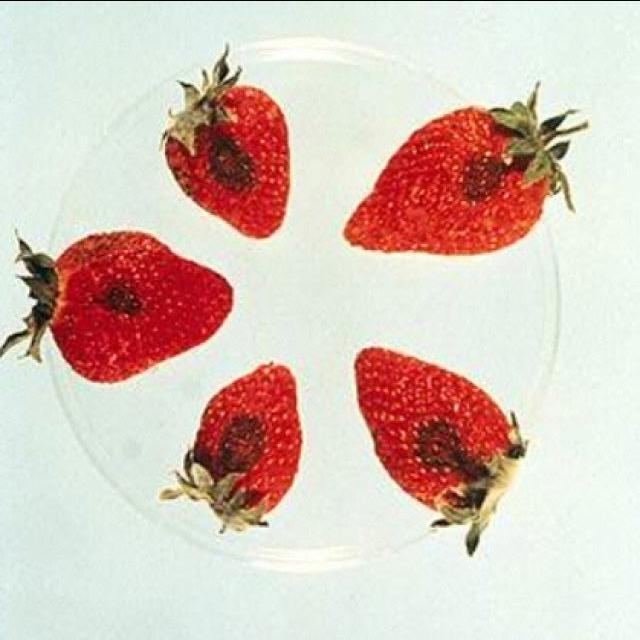Anthracnose Fruit Rot: (343, 90, 591, 256), (352, 344, 528, 549), (15, 227, 237, 385), (160, 46, 295, 241), (161, 360, 309, 536)
